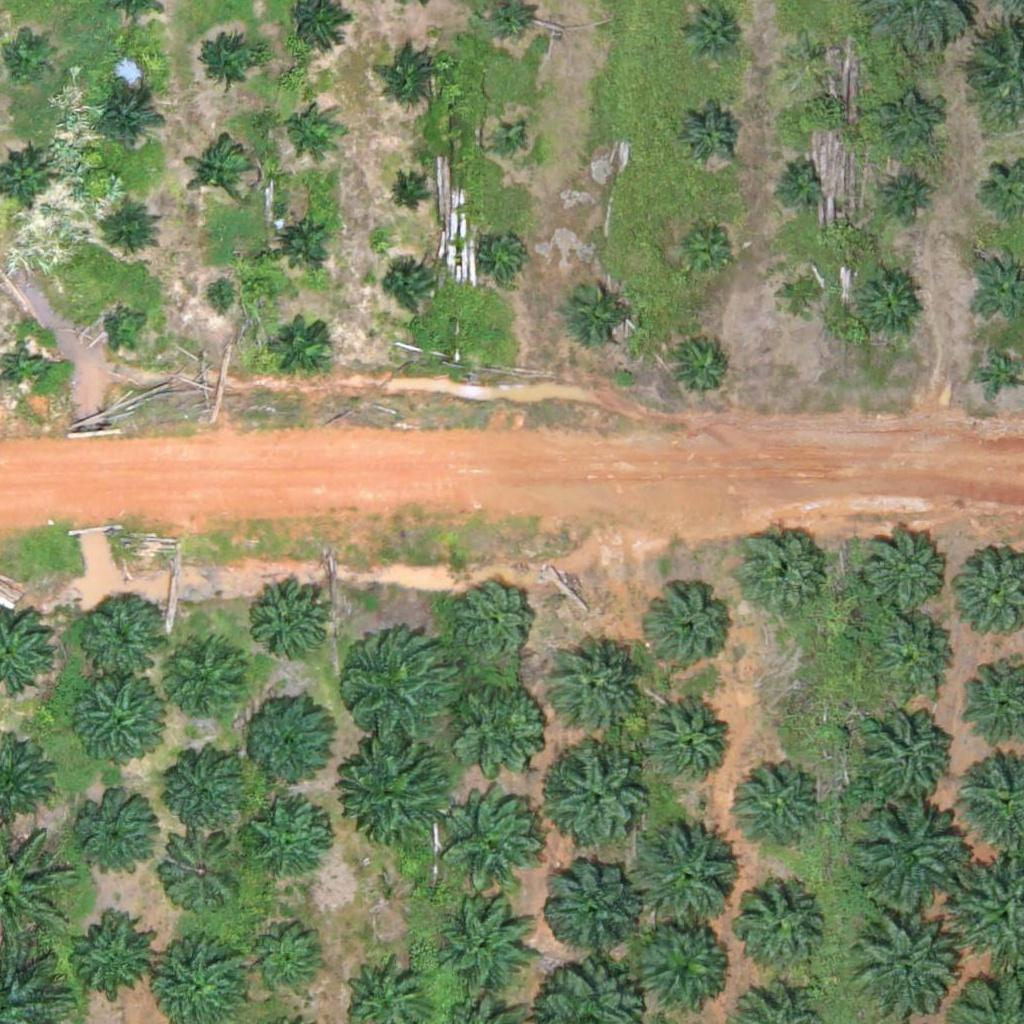Kelapa_Sawit: (338, 624, 463, 750), (851, 801, 963, 915), (626, 817, 738, 930), (543, 745, 655, 858), (722, 761, 822, 862), (629, 915, 729, 1016), (545, 637, 645, 738), (432, 894, 532, 995), (447, 791, 547, 892), (350, 742, 450, 843), (850, 920, 950, 1020), (855, 704, 955, 804), (731, 876, 831, 976), (541, 857, 641, 957), (451, 669, 551, 769), (735, 526, 823, 614), (638, 697, 726, 785), (72, 681, 160, 769), (77, 796, 165, 884), (65, 908, 153, 996), (243, 697, 330, 786), (75, 589, 162, 677), (162, 743, 249, 831), (873, 612, 960, 700), (861, 529, 948, 617), (648, 586, 735, 674), (157, 824, 244, 912), (165, 635, 252, 723), (251, 578, 338, 666), (248, 805, 335, 893), (452, 582, 539, 670), (191, 34, 266, 110), (562, 276, 637, 352), (183, 136, 258, 212), (92, 85, 167, 160), (253, 921, 328, 996), (851, 266, 926, 341), (273, 313, 336, 376), (100, 203, 163, 266), (272, 208, 335, 271), (679, 104, 742, 167), (672, 336, 735, 399), (672, 218, 735, 281), (382, 45, 444, 108), (879, 91, 941, 154), (885, 169, 935, 220), (782, 26, 832, 77), (772, 155, 822, 206), (105, 301, 155, 352), (281, 100, 331, 150), (382, 263, 432, 313), (482, 230, 532, 280), (776, 271, 826, 321), (491, 125, 529, 163), (200, 279, 238, 317), (386, 176, 423, 214)
